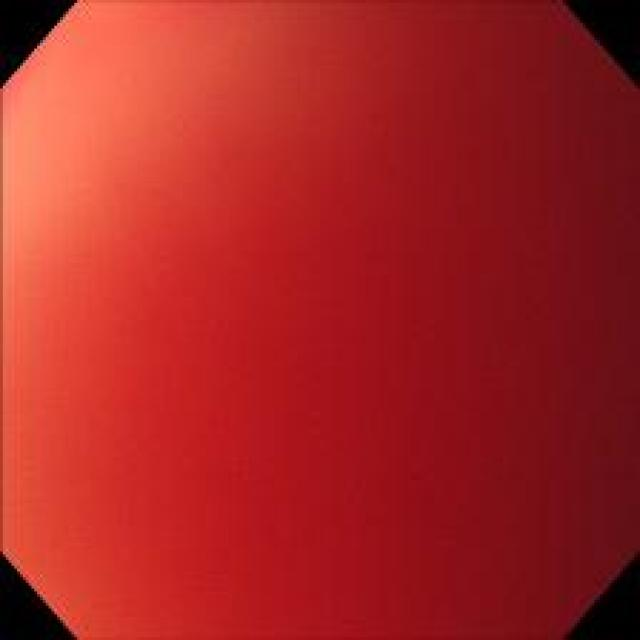color misalignment: (15, 16, 616, 634)
